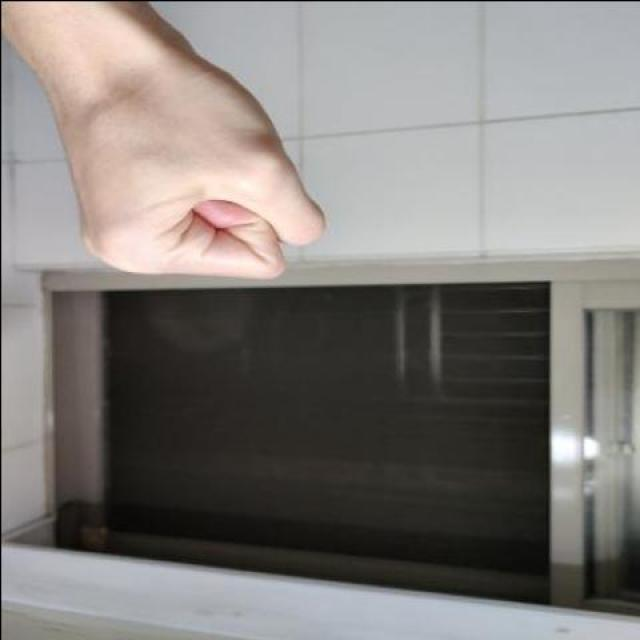Closed Hand: (0, 0, 329, 280)
